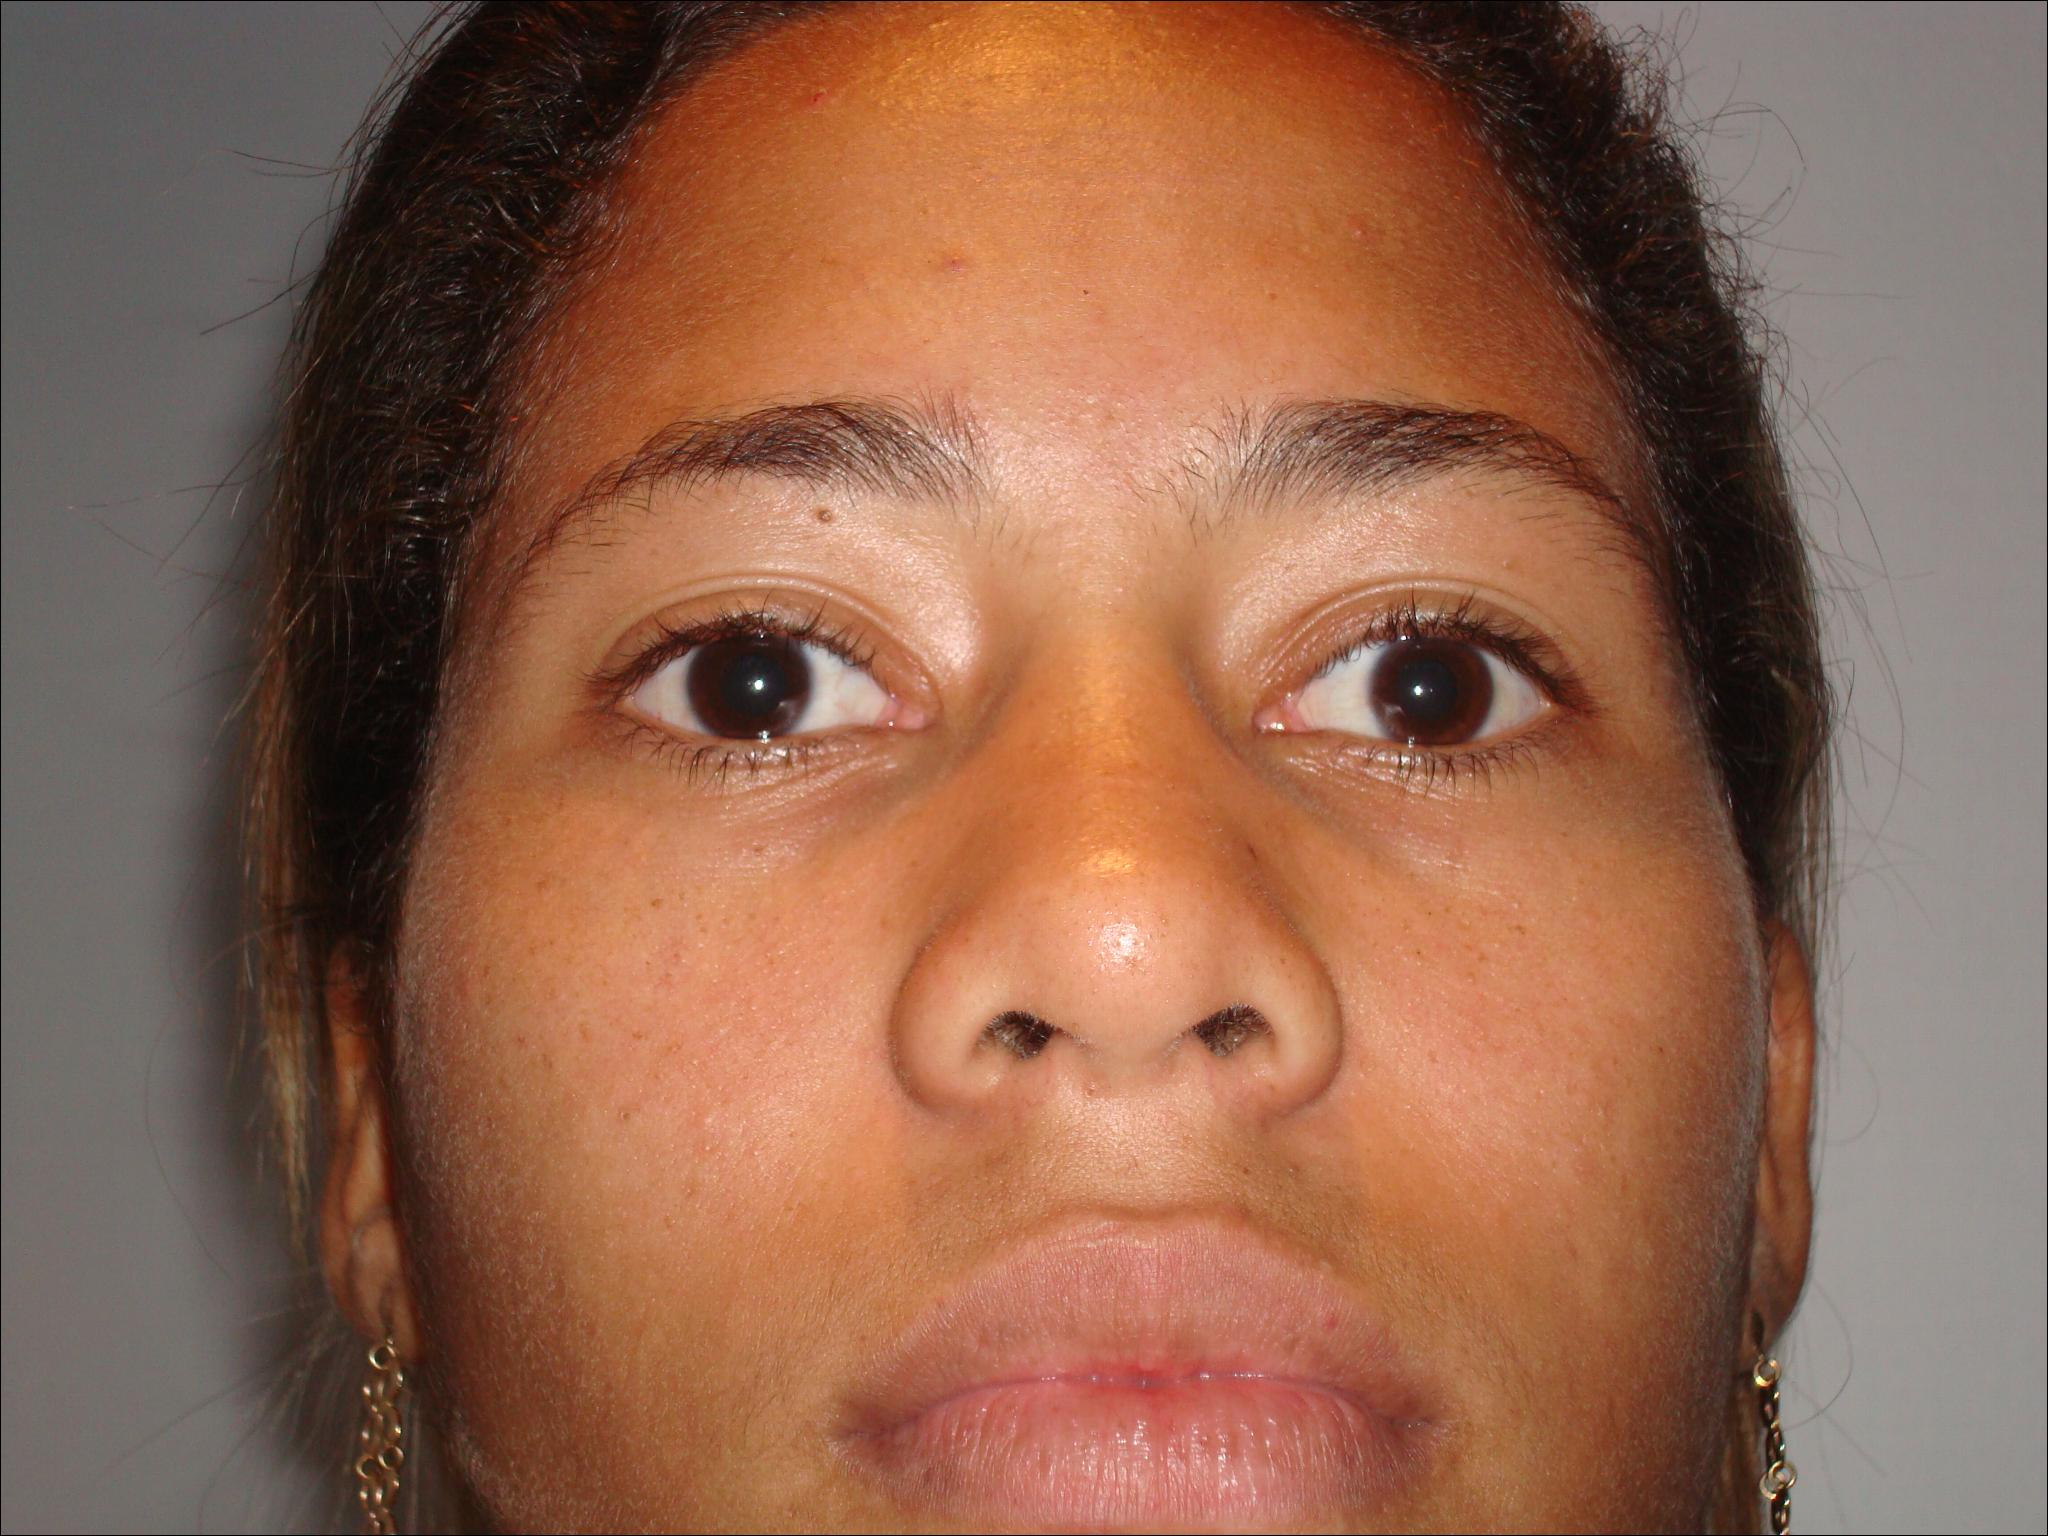flash: (1405, 678, 1430, 703), (747, 674, 769, 694)
limbo: (1364, 631, 1490, 749), (687, 629, 813, 741)
